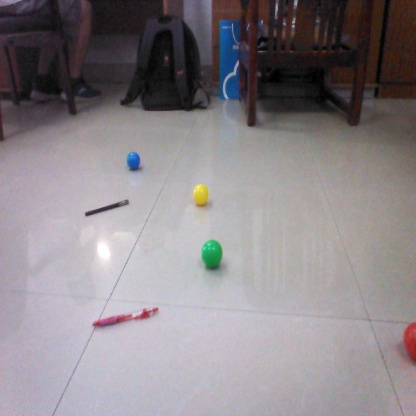ball: (202, 240, 224, 269), (192, 184, 210, 206), (127, 153, 143, 169)
pen: (92, 308, 160, 327), (84, 197, 129, 215)
